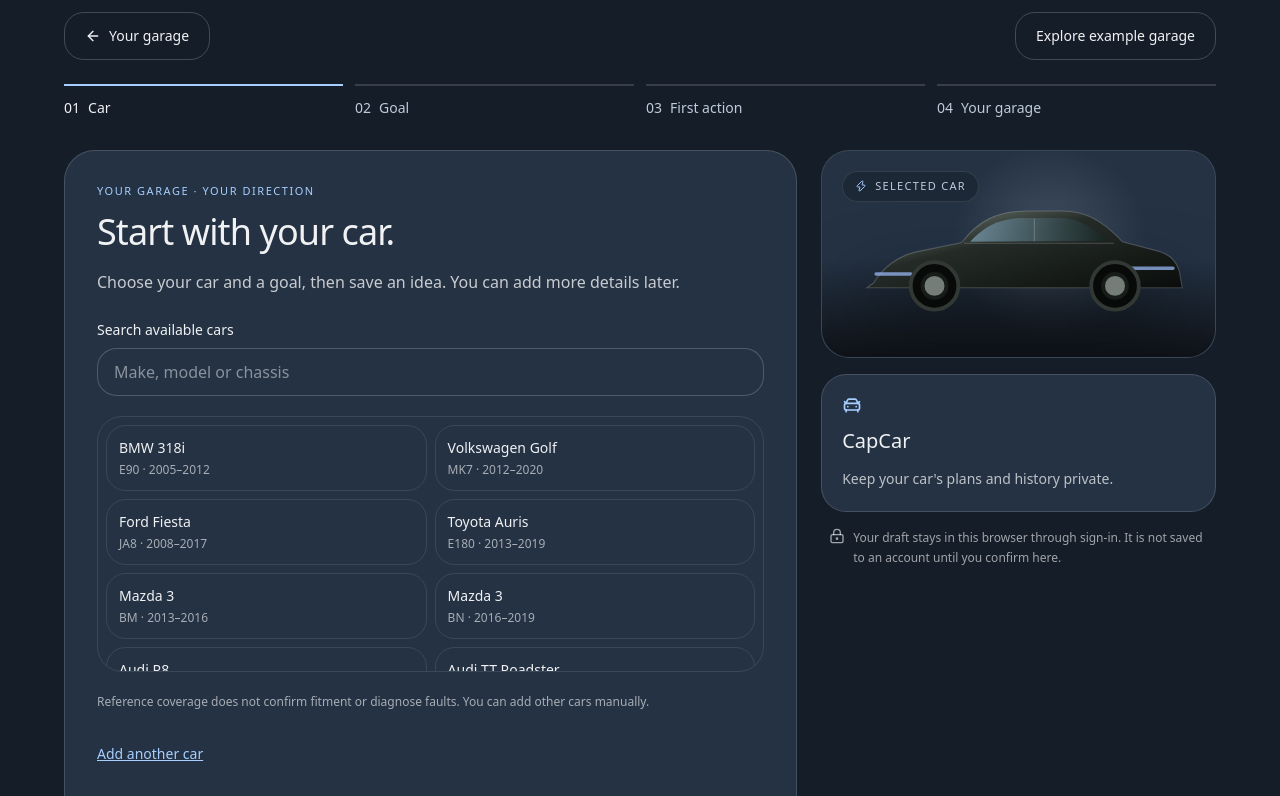
Test case: garage onboarding UI › shows an example before asking for personal information without adding sample vehicles
The image size is (1280, 796).
Click the button "Explore example garage" at (1116, 36), box left=1015, top=12, right=1216, bottom=60
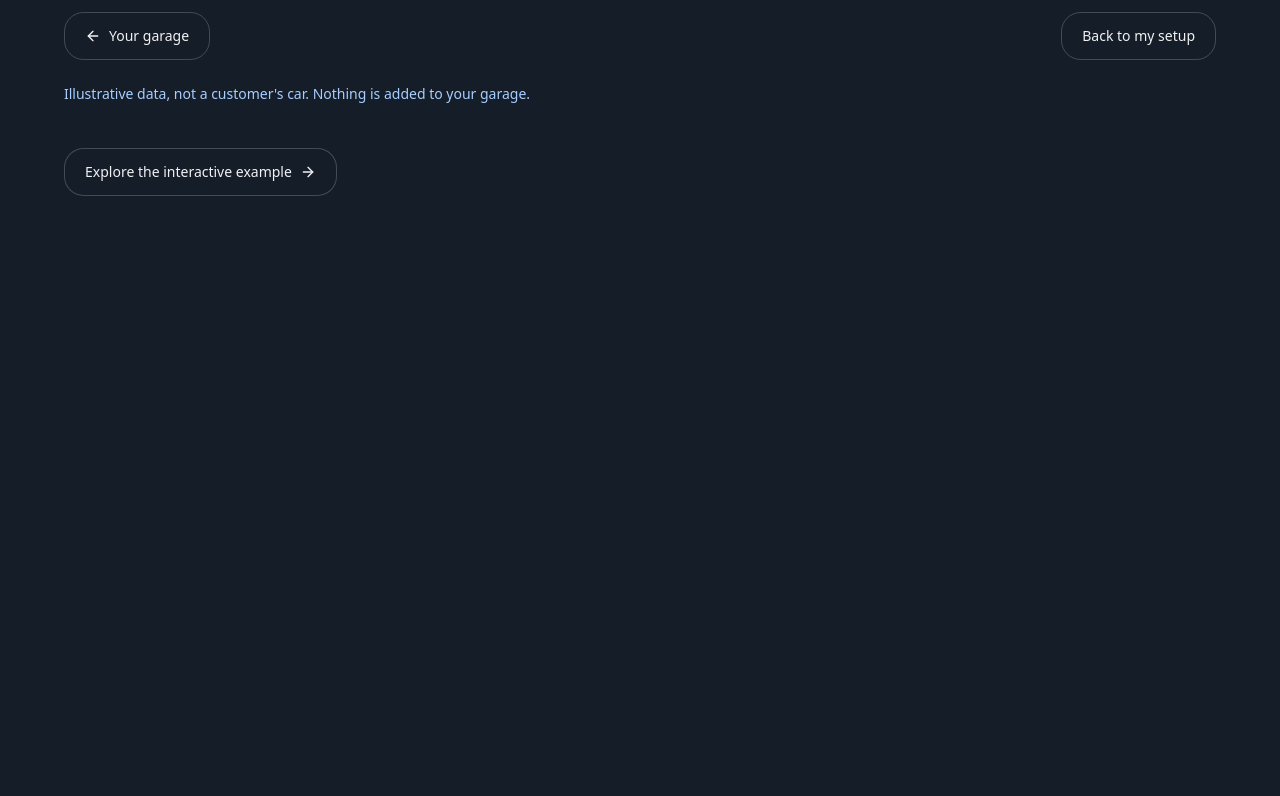
Expected: the element named "Example garage" is shown, left=64, top=84, right=530, bottom=196
